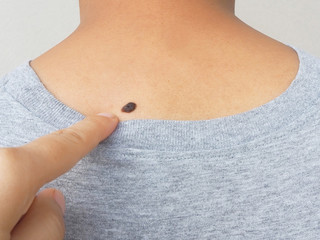melanoma: (107, 91, 154, 121)
